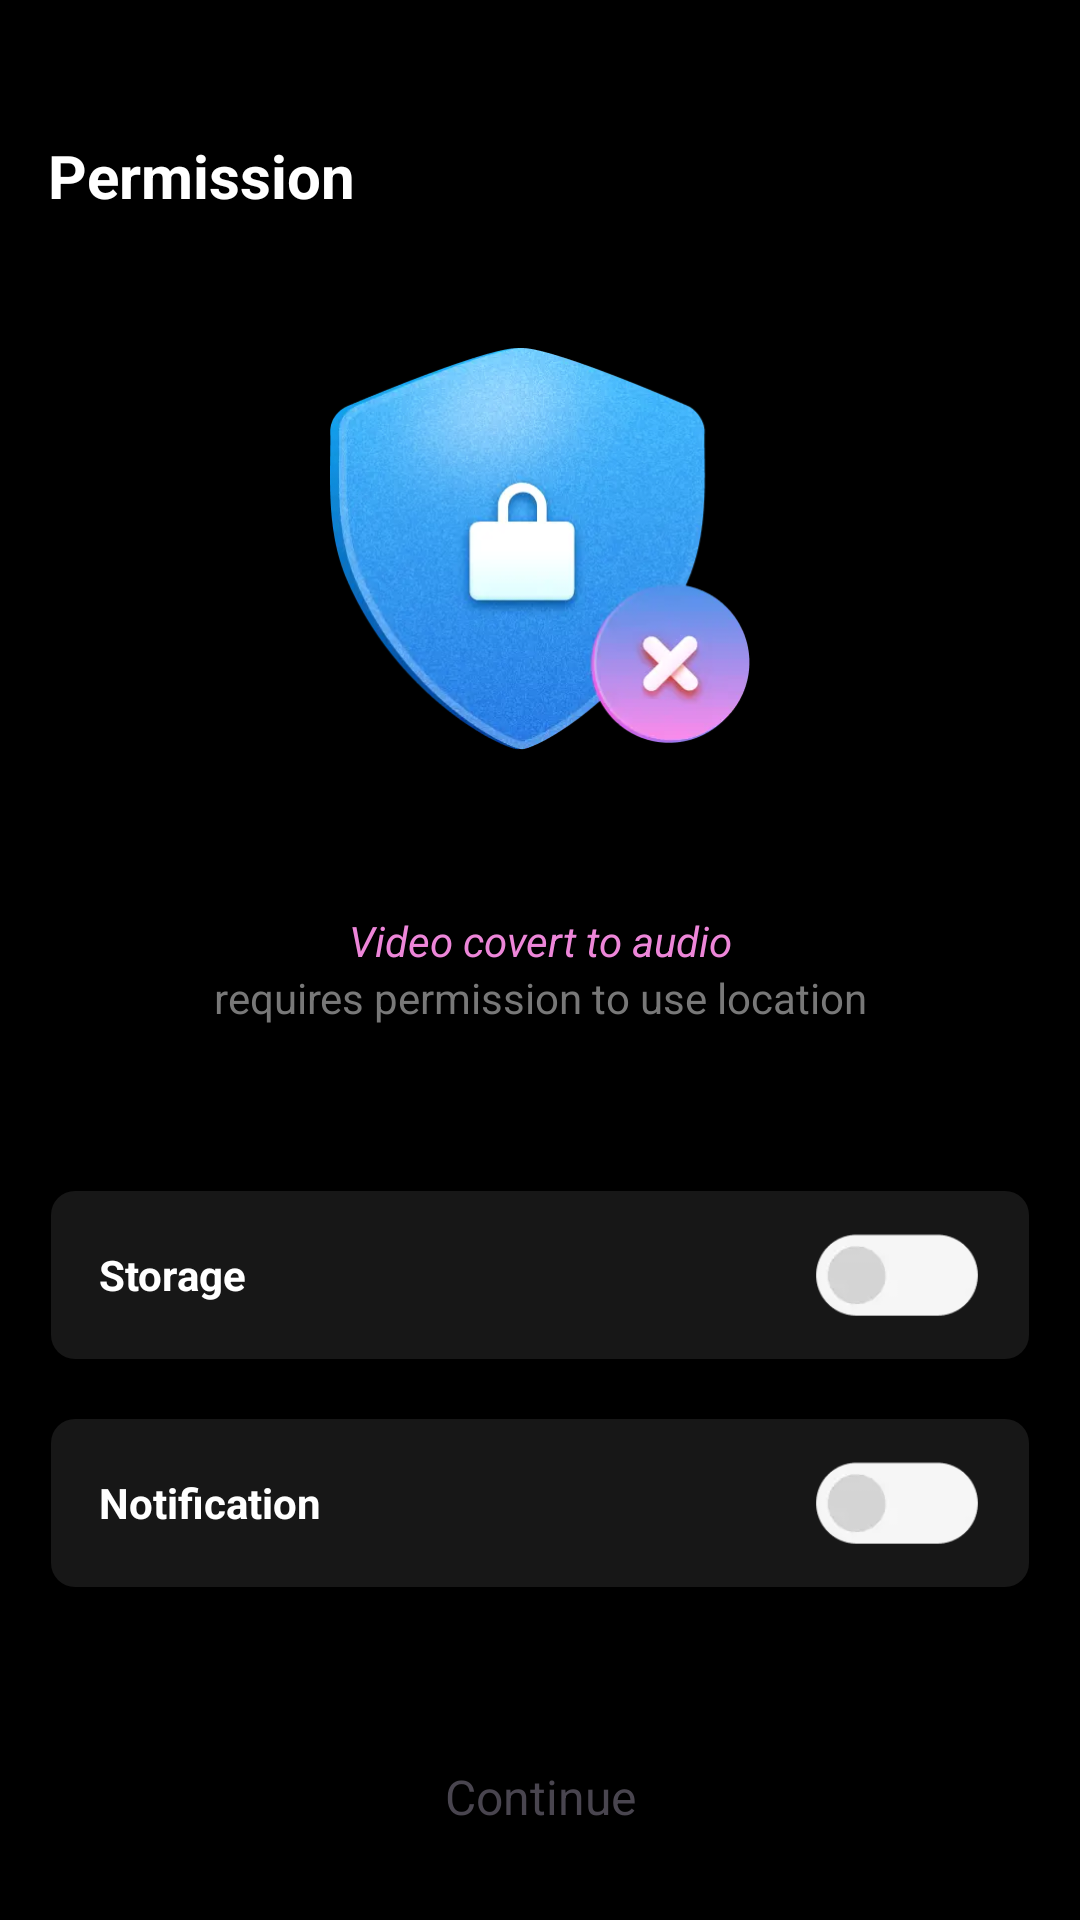

Point at icon controls on the screen. Image size 1080 x 1920, points as point (x, y).
switch off: point (897, 1275), point (897, 1503)
